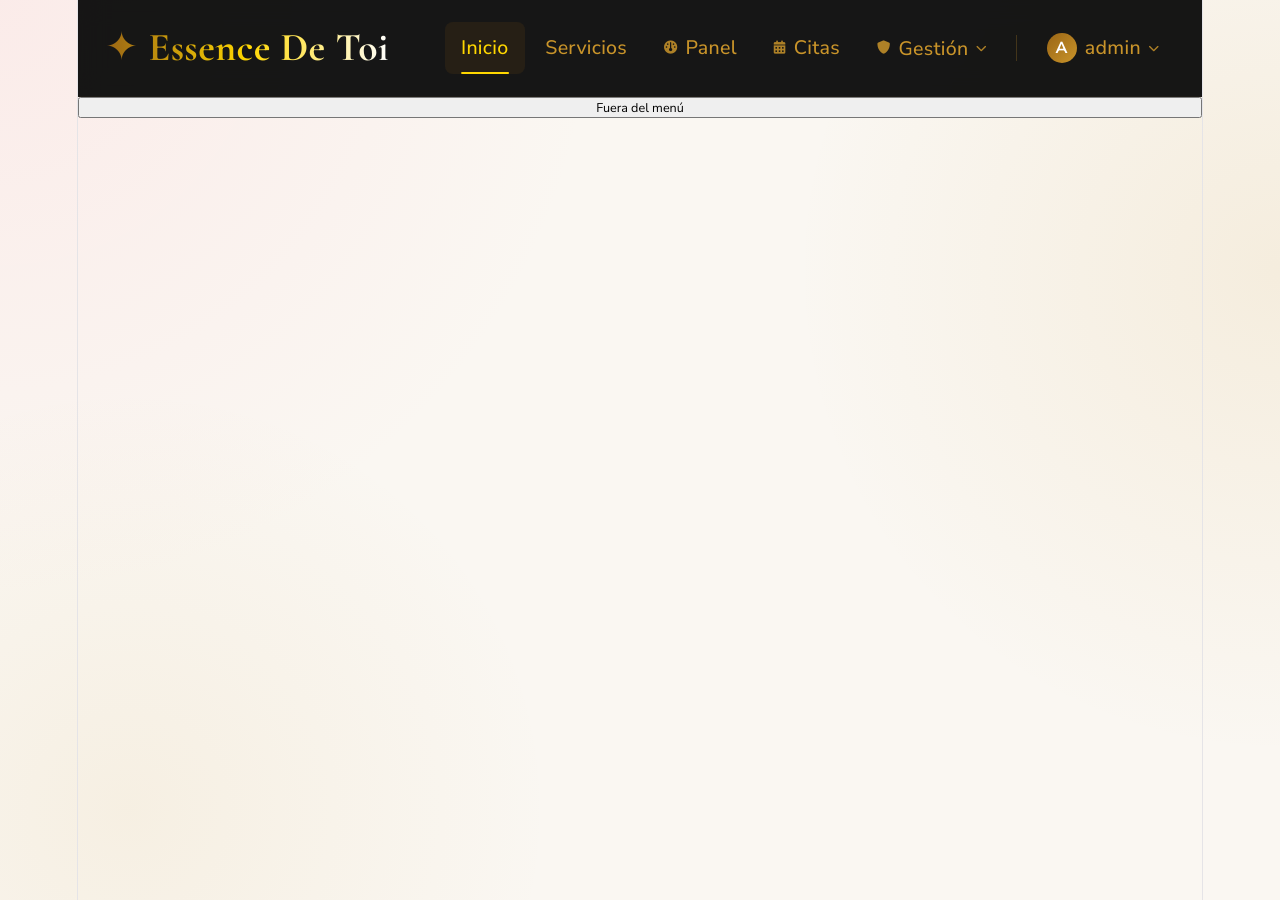
Test: Navbar › cierra el menú al navegar a una sección
Click the button "Gestión".
click(932, 48)  # box [861,26,1002,71]
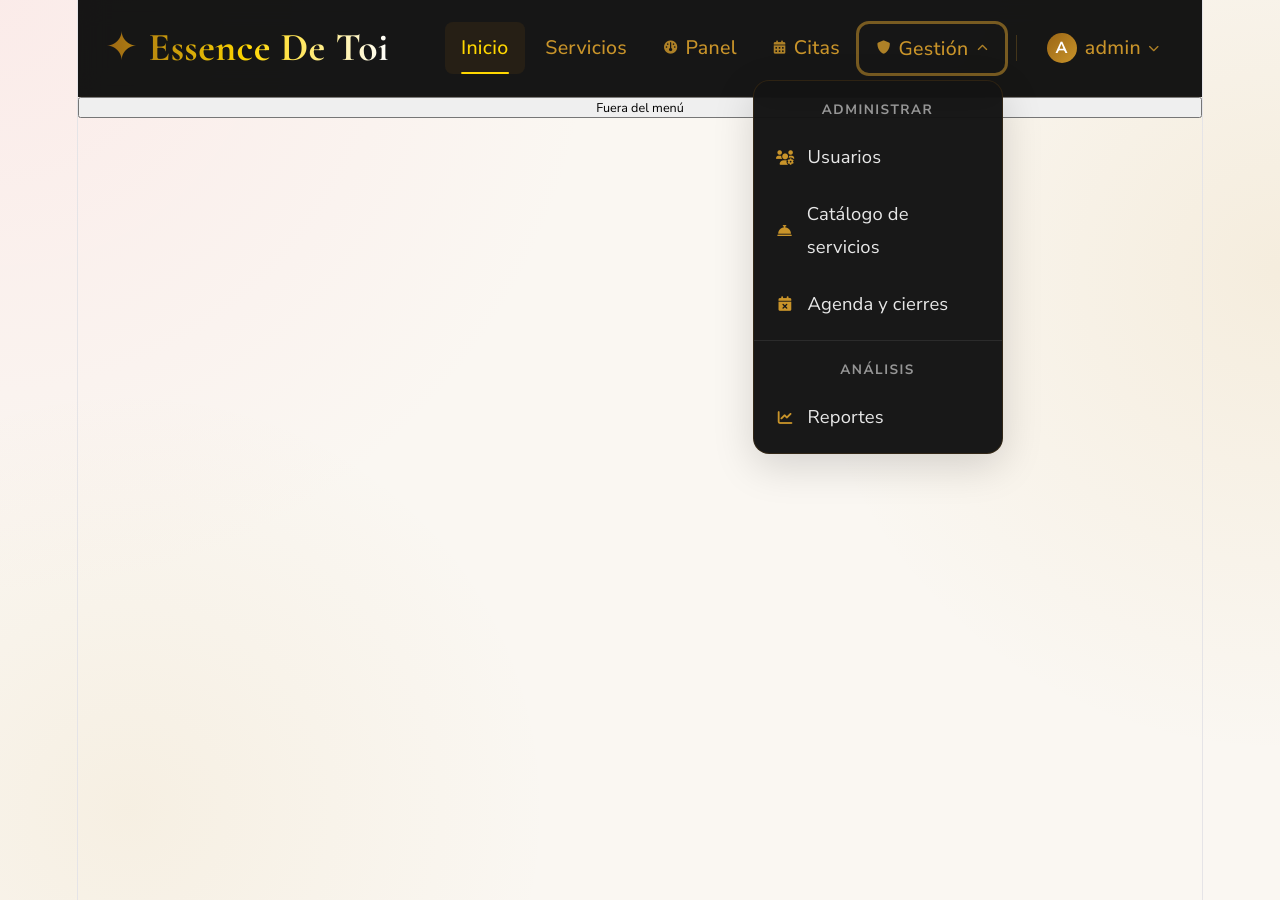
Click the link "Reportes".
click(830, 417)  # box [776,404,884,429]
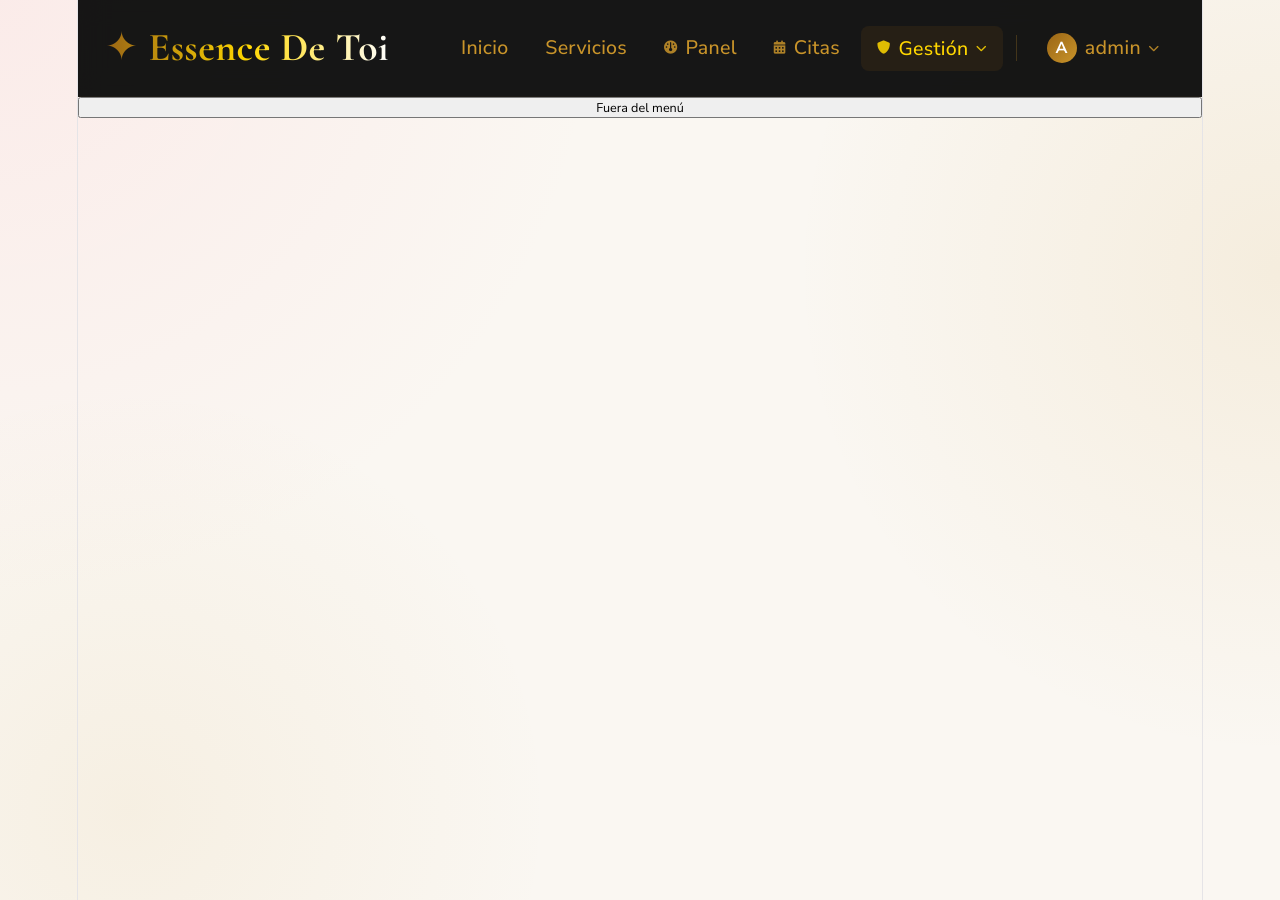
Expected: the button "Gestión" is collapsed, [861,26,1002,71]
